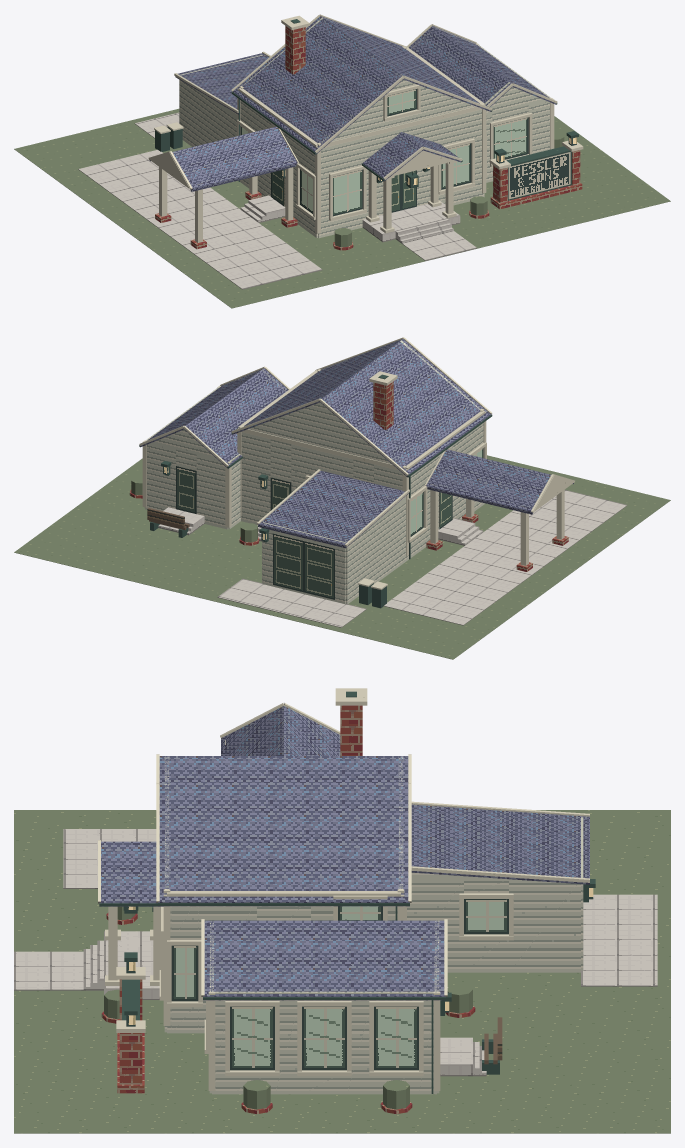
File: funeral-home-kessler.glb
The picture shows the model from 3 angles, top to bottom: view 1: azimuth 30°, elevation 25°; view 2: azimuth 150°, elevation 25°; view 3: azimuth 270°, elevation 25°; orthographic projection. The views are drawn at different scales.
Visible parts, largest first — view 1: structure__roof_slate, lot__ground_lawn, structure__wall_siding, lot__ground_paving, structure__detail_trim, structure__glass_home, structure__ground_paving, structure__wall_brick_base, sign_name, structure__detail_steel, panel_door_main__glass_home, service_bins__detail_steel; view 2: lot__ground_lawn, structure__roof_slate, structure__wall_siding, lot__ground_paving, structure__detail_trim, panel_door_service_bay__glass_home, structure__ground_paving, structure__wall_brick_base, panel_door_chapel_exit__glass_home, structure__detail_steel, structure__glass_home, garden_bench__ground_oak (+2 smaller); view 3: lot__ground_lawn, structure__roof_slate, structure__wall_siding, structure__detail_trim, structure__glass_home, lot__ground_paving, structure__ground_paving, structure__detail_steel, structure__wall_brick_base, garden_shrub.002__ground_lawn, garden_shrub.003__ground_lawn, garden_shrub.004__ground_lawn.
Part boxes in pixels (x1,y1,x2,y2): structure__roof_slate: (149,16,555,191); lot__ground_lawn: (14,108,670,308); structure__wall_siding: (179,17,550,238); lot__ground_paving: (78,112,476,289); structure__detail_trim: (148,14,583,242); structure__glass_home: (240,89,528,216); structure__ground_paving: (240,195,460,243); structure__wall_brick_base: (155,26,582,249); sign_name: (508,152,570,199); structure__detail_steel: (231,19,578,200); panel_door_main__glass_home: (391,170,416,212); service_bins__detail_steel: (155,127,182,151); lot__ground_lawn: (14,455,670,659); structure__roof_slate: (140,339,573,548); structure__wall_siding: (144,340,484,604); lot__ground_paving: (217,490,627,627); structure__detail_trim: (139,337,574,565); panel_door_service_bay__glass_home: (273,533,334,599); structure__ground_paving: (158,507,483,548); structure__wall_brick_base: (373,381,568,571); panel_door_chapel_exit__glass_home: (176,466,196,513); structure__detail_steel: (139,374,492,559); structure__glass_home: (410,448,483,536); garden_bench__ground_oak: (147,508,189,529); lot__ground_lawn: (14,810,670,1133); structure__roof_slate: (99,706,589,1000); structure__wall_siding: (164,756,583,1094); structure__detail_trim: (98,688,589,1090); structure__glass_home: (171,899,508,1070); lot__ground_paving: (14,829,657,990); structure__ground_paving: (83,931,486,1076); structure__detail_steel: (99,691,595,1093); structure__wall_brick_base: (117,705,362,1093); garden_shrub.002__ground_lawn: (243,1080,270,1109); garden_shrub.003__ground_lawn: (383,1080,409,1109); garden_shrub.004__ground_lawn: (447,984,472,1013).
Size of what is drawn, in the model's own units: 26.38 by 9.34 by 22.66.
12 materials, 12 textured.
